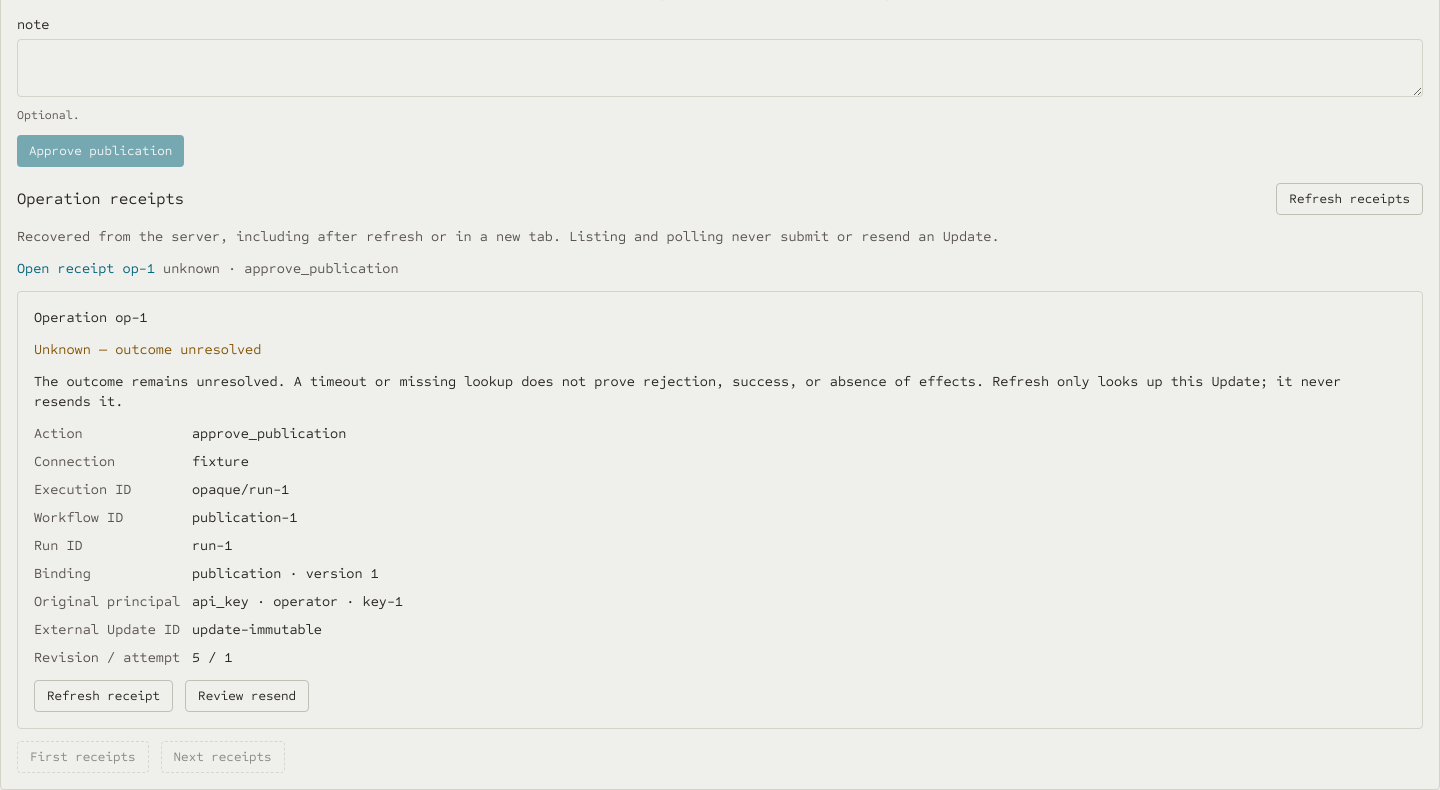
Test case: server operation receipts › uses fresh displayed revision and a separate original-principal confirmation before resend
(page scrolled)
Check: the element with test id "operation-receipt" is shown, box [17, 291, 1423, 729]
What coordinates should you click on to do the following:
click the button "Review resend"
I would click on:
 (247, 696)
Its box is [185, 680, 309, 712].
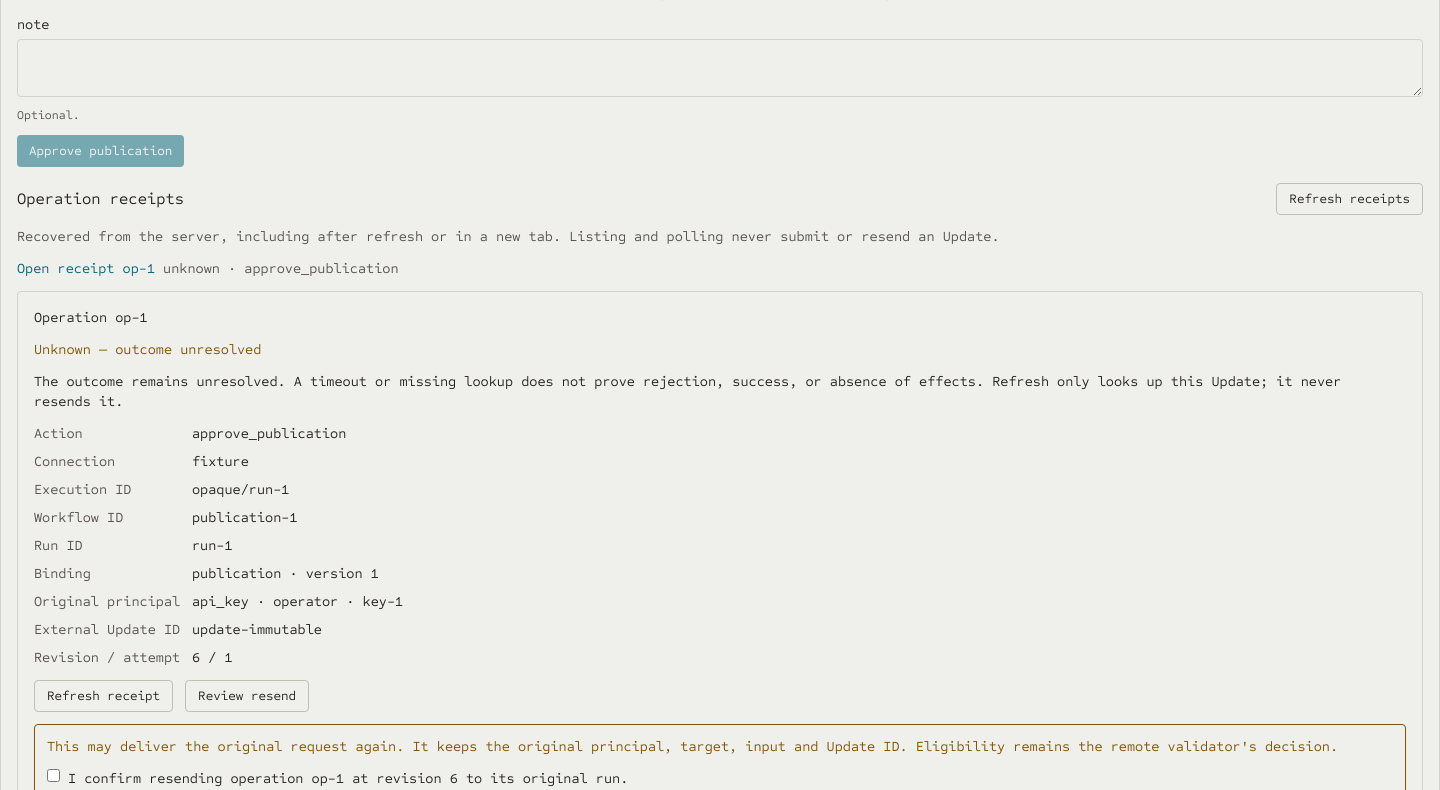
What coordinates should you click on to do the following:
click the checkbox labelled "operation op-1 at revision 6 to its original run"
I would click on:
 (54, 776)
Its box is [47, 769, 60, 782].
(page scrolled)
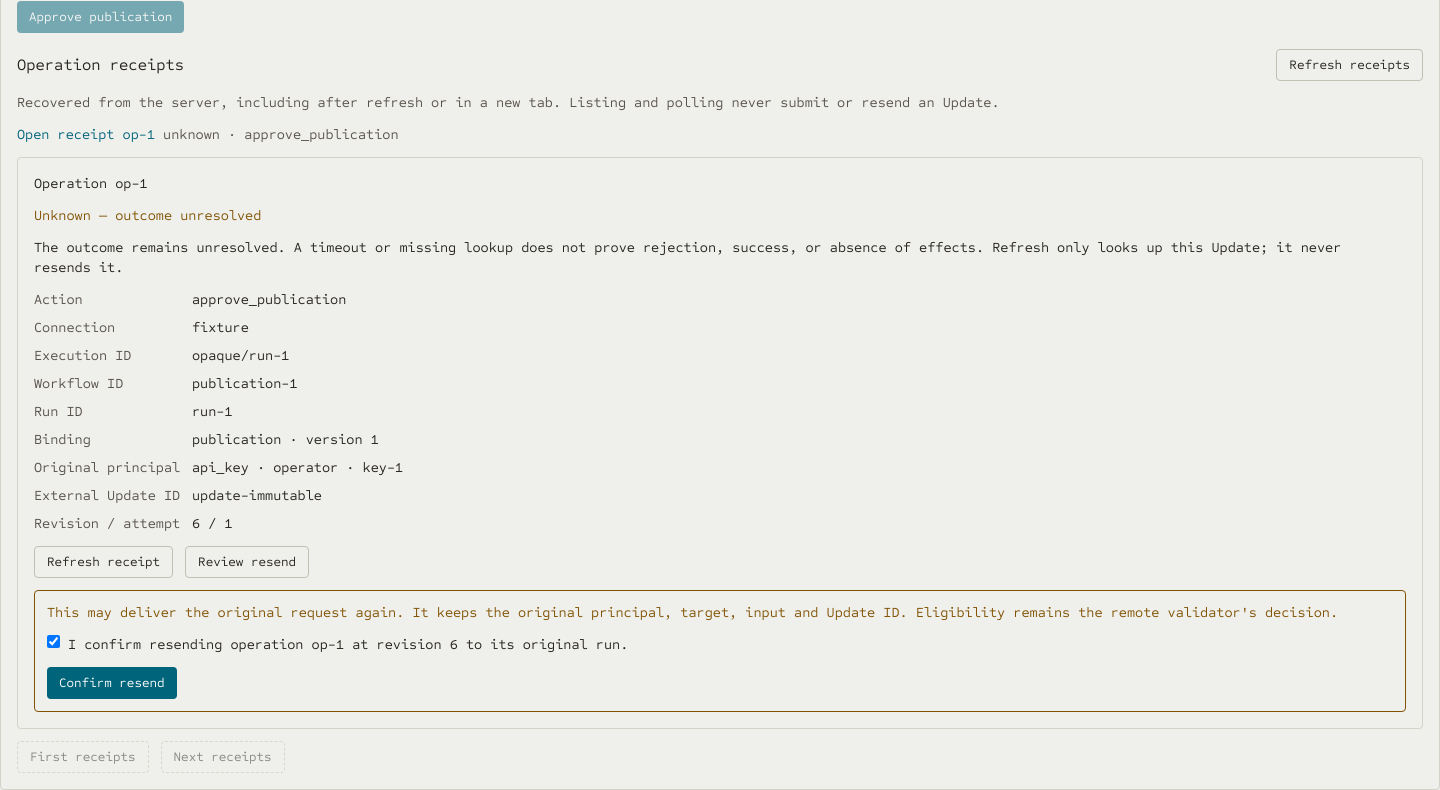
What coordinates should you click on to do the following:
click the button "Confirm resend"
I would click on:
 (112, 683)
Its box is [47, 667, 177, 699].
(page scrolled)
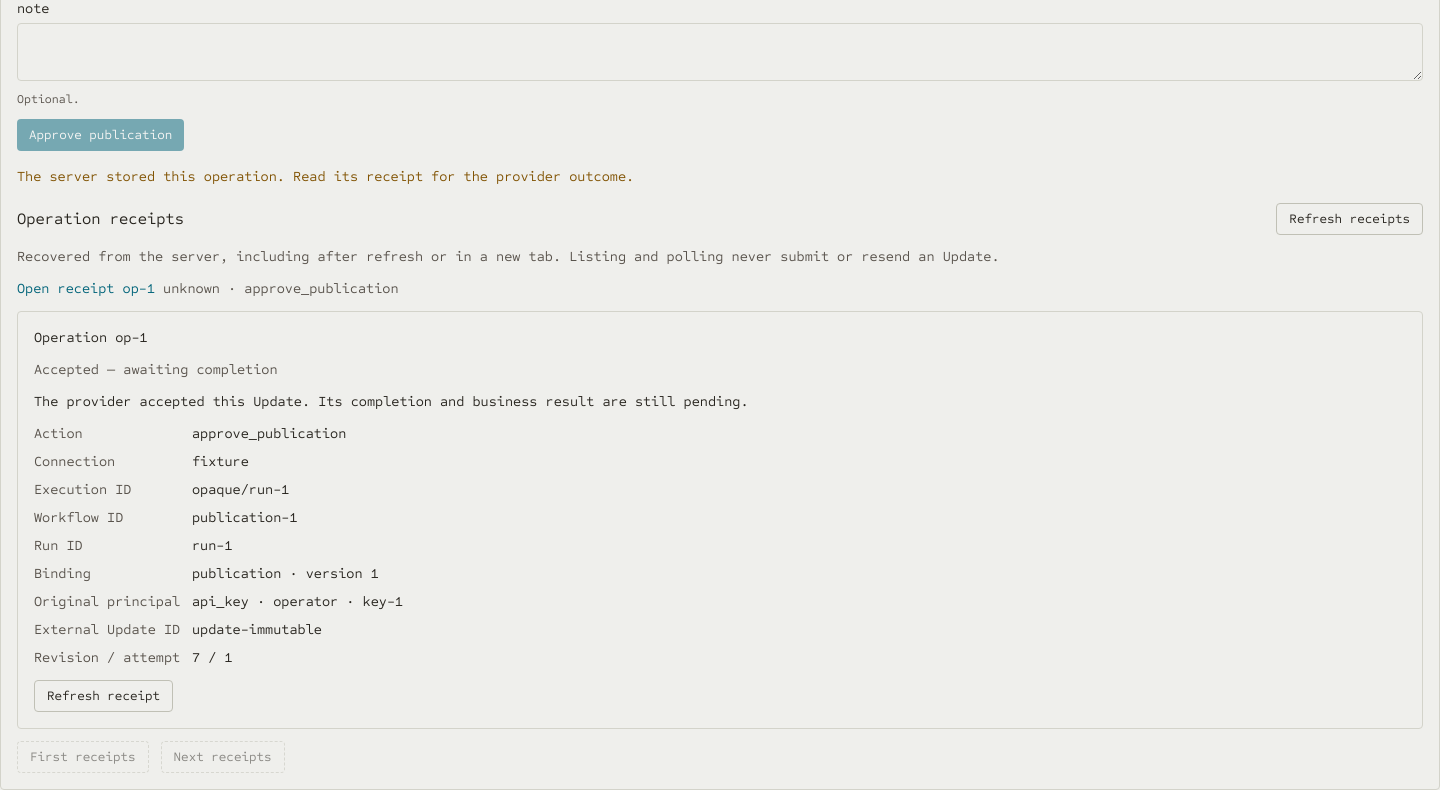
Check: the message with test id "operation-state" reads "Accepted — awaiting completion", box [34, 361, 278, 378]
